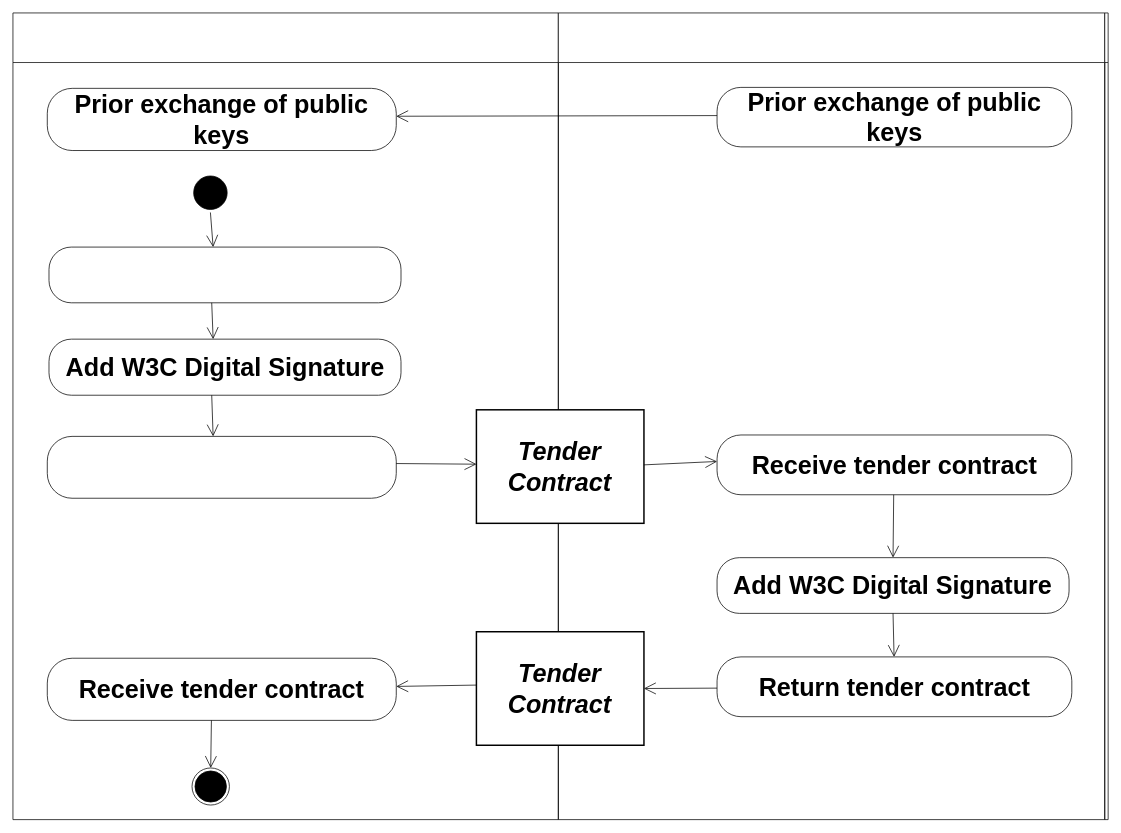
This 1121x833 diagram has some shape labels left out. The box of each missing label's shape, as (x1, y1, x2, y2) in pixels:
INITIATING PARTY: (12, 12, 558, 820)
Prepare tender contract: (48, 246, 401, 303)
RESPONDING PARTY: (558, 12, 1105, 820)
Submit tender contract: (47, 436, 396, 498)
